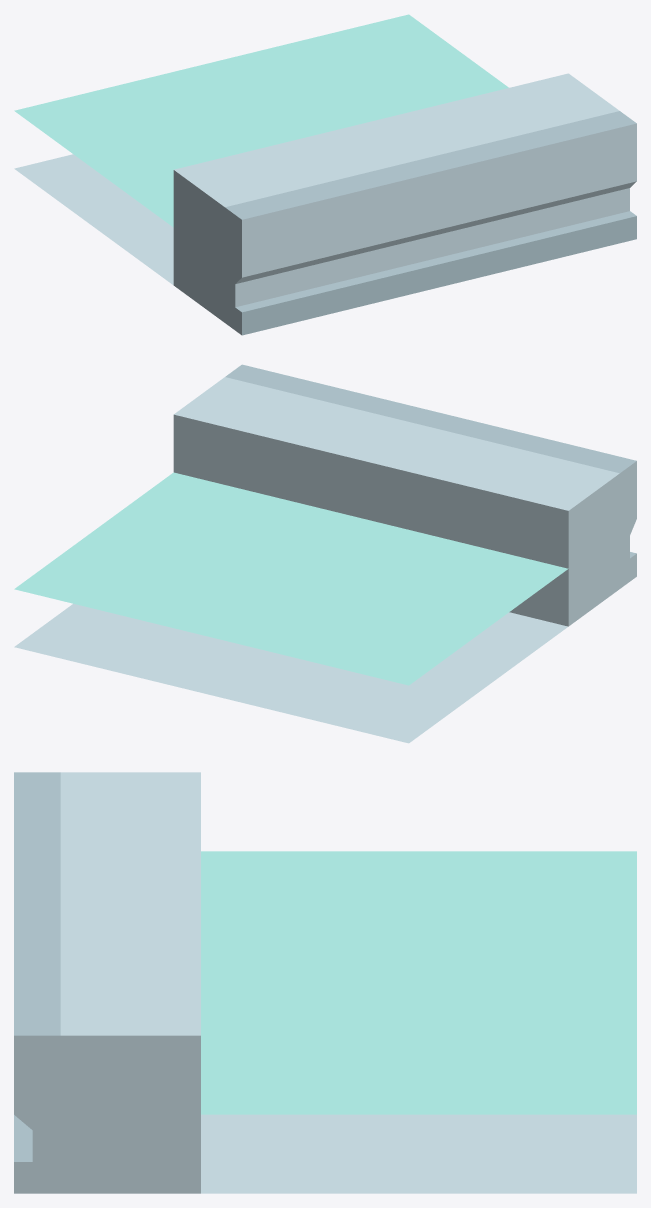
The model's file is fountainEdge.fbx.
3 renders of one model, top to bottom at view 1: azimuth 30°, elevation 25°; view 2: azimuth 150°, elevation 25°; view 3: azimuth 270°, elevation 25°, orthographic. The views are drawn at different scales.
Parts seen in each view (by area): view 1: fountainEdge, fountainEdge.001; view 2: fountainEdge, fountainEdge.001; view 3: fountainEdge.001, fountainEdge.
Part boxes in pixels (left/top/right/bottom): fountainEdge: left=14, top=73, right=636, bottom=335; fountainEdge.001: left=14, top=14, right=508, bottom=227; fountainEdge: left=14, top=364, right=636, bottom=743; fountainEdge.001: left=14, top=472, right=568, bottom=685; fountainEdge.001: left=201, top=851, right=636, bottom=1114; fountainEdge: left=14, top=772, right=636, bottom=1193.
Size of the model in its own units: 100 by 28 by 100.
